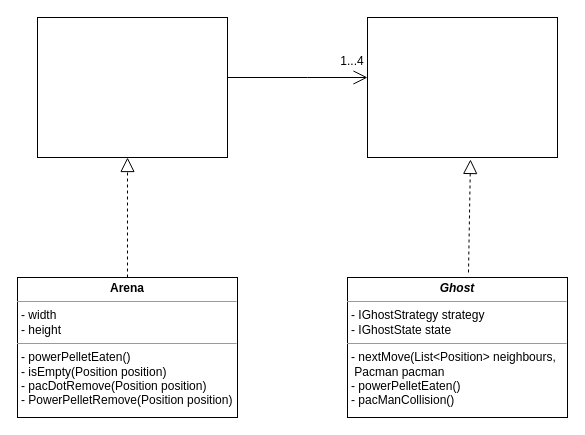
This 585x435 diagram has some shape labels left out. Each missing label, with the centre of its shape:
"<<Interface>> Observable - powerPelletEaten()" belongs at (x=132, y=87).
"<<Interface>> Observer - PowerPelletEaten()" belongs at (x=462, y=87).
